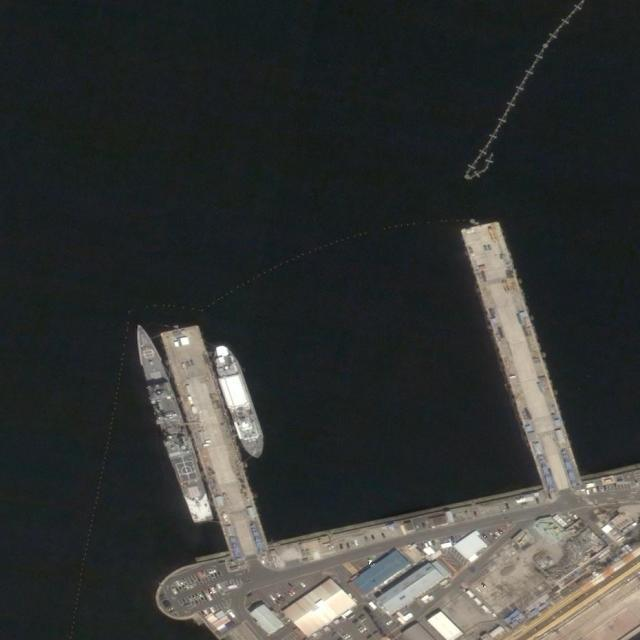Cruiser: (127, 323, 217, 524)
Dock: (458, 217, 586, 496), (159, 318, 268, 556)
Other Ship: (209, 339, 270, 462)
